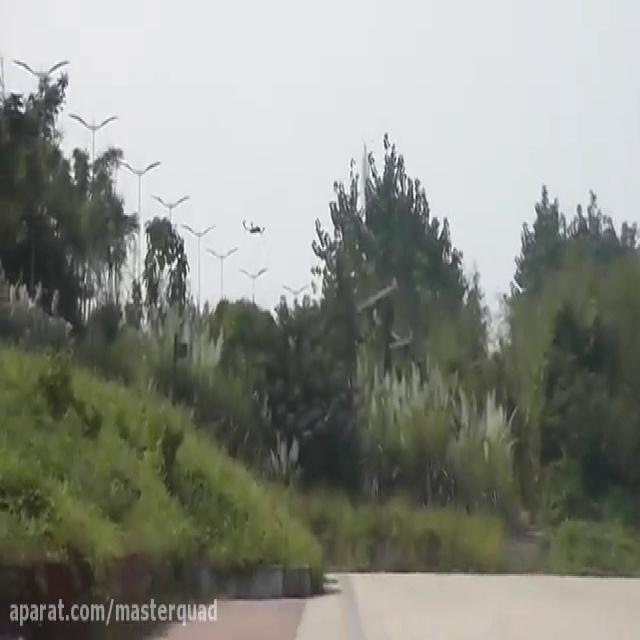drone: (241, 212, 267, 238)
